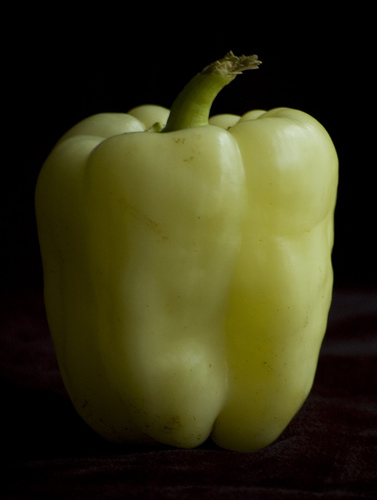capsicum: (30, 47, 339, 458)
